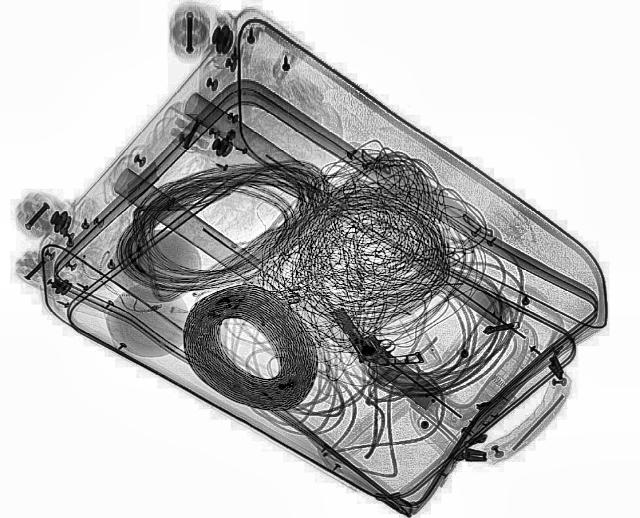Gun: (322, 294, 428, 380)
